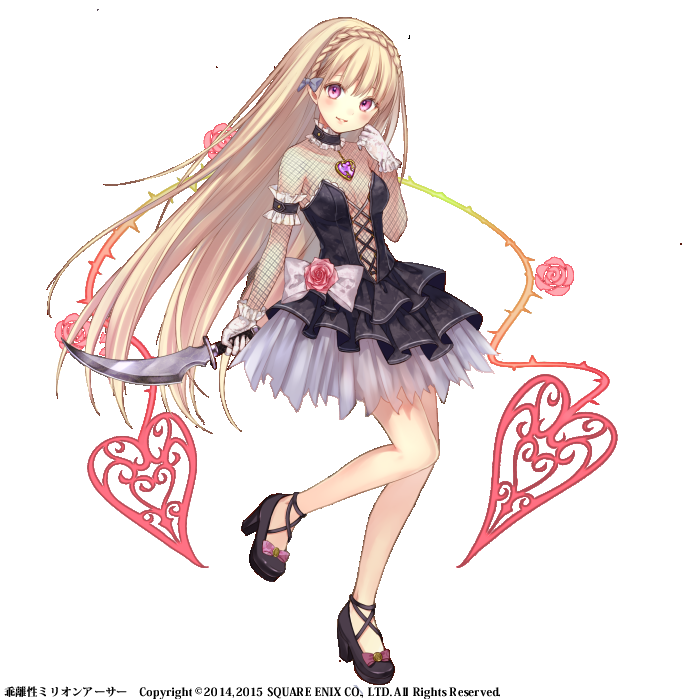纸片人正脸: (281, 17, 408, 145)
